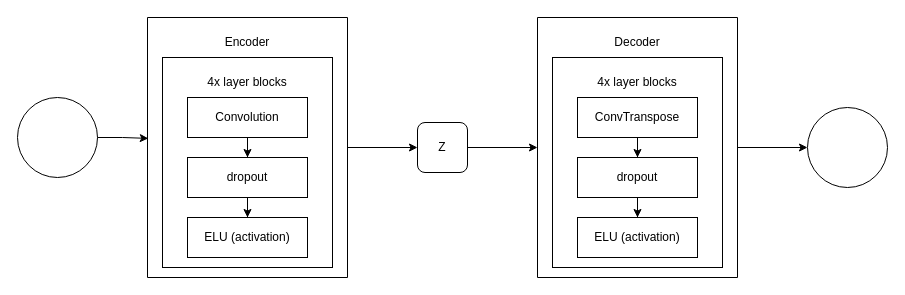
This 905x295 diagram has some shape labels left out. Each missing label, with the centre of its shape:
"Input actions" goes at [57,137].
"Output actions" goes at [847,147].
